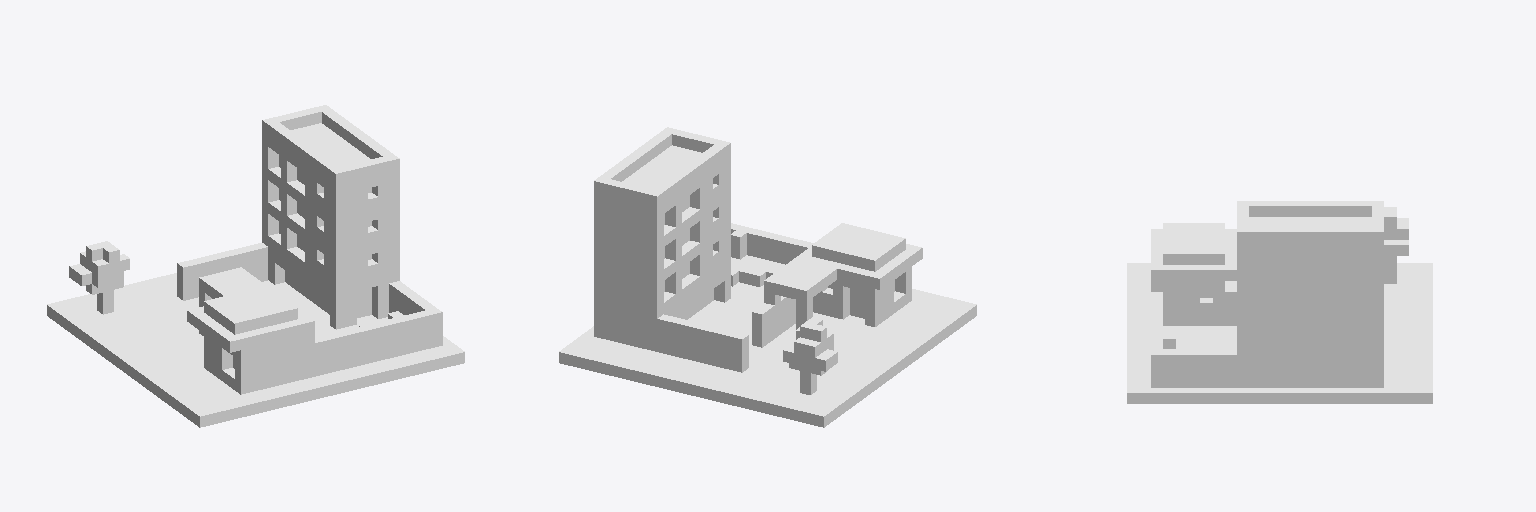
Rendered from build24.obj.
3 renders of one model, left to right at view 1: azimuth 30°, elevation 25°; view 2: azimuth 150°, elevation 25°; view 3: azimuth 270°, elevation 25°, orthographic.
Size of the model in its own units: 25 by 15 by 25.